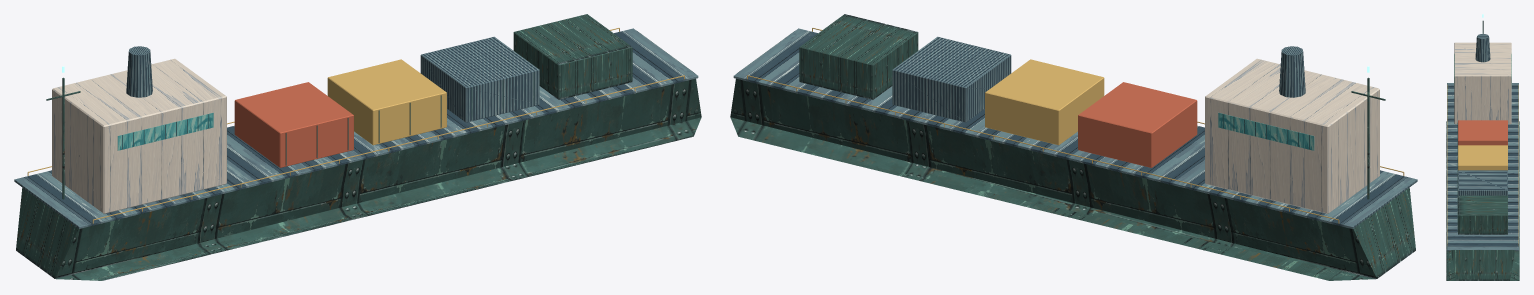
File: freighter.glb
3 renders of one model, left to right at view 1: azimuth 30°, elevation 25°; view 2: azimuth 150°, elevation 25°; view 3: azimuth 270°, elevation 25°, orthographic. The views are drawn at different scales.
Parts seen in each view (by area): view 1: Hull, Bridge, Deck, Cargo.0, Cargo.3, Cargo.1, Cargo.2, BridgeGlass.1, Funnel, DeckRail.1.Top; view 2: Hull, Bridge, Deck, Cargo.0, Cargo.3, Cargo.1, Cargo.2, BridgeGlass.-1, Funnel, DeckRail.-1.Top; view 3: Bridge, Deck, Hull, Cargo.3, Cargo.0, Cargo.1, Cargo.2, Funnel, DeckRail.1.Top, DeckRail.-1.Top.
Part boxes in pixels (<box>): Hull: <box>16,31,701,280</box>; Bridge: <box>52,58,226,213</box>; Deck: <box>14,28,698,228</box>; Cargo.0: <box>234,82,353,167</box>; Cargo.3: <box>513,14,632,99</box>; Cargo.1: <box>327,59,446,145</box>; Cargo.2: <box>420,36,539,122</box>; BridgeGlass.1: <box>117,112,213,150</box>; Funnel: <box>126,46,152,97</box>; DeckRail.1.Top: <box>93,75,684,220</box>; Hull: <box>730,31,1415,280</box>; Bridge: <box>1205,58,1379,213</box>; Deck: <box>733,28,1417,228</box>; Cargo.0: <box>1078,82,1197,167</box>; Cargo.3: <box>799,14,918,99</box>; Cargo.1: <box>985,59,1104,145</box>; Cargo.2: <box>892,36,1011,122</box>; BridgeGlass.-1: <box>1218,112,1314,150</box>; Funnel: <box>1279,46,1305,97</box>; DeckRail.-1.Top: <box>747,75,1338,220</box>; Bridge: <box>1454,42,1511,124</box>; Deck: <box>1447,83,1518,251</box>; Hull: <box>1446,121,1519,280</box>; Cargo.3: <box>1458,195,1507,234</box>; Cargo.0: <box>1458,120,1507,145</box>; Cargo.1: <box>1458,145,1507,170</box>; Cargo.2: <box>1458,170,1507,195</box>; Funnel: <box>1475,34,1490,62</box>; DeckRail.1.Top: <box>1447,85,1447,243</box>; DeckRail.-1.Top: <box>1518,85,1518,243</box>.
Size of what is drawn, in the model's own units: 228 by 65.01 by 41.
8 materials, 5 textured.
